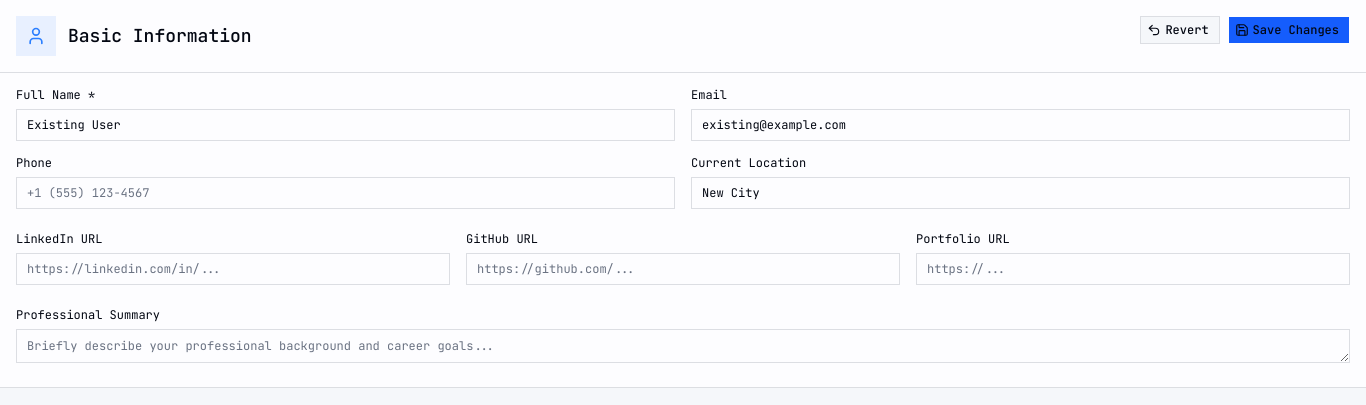
Test: ProfileForm review workflow › reverts manual or extracted edits to the persisted profile
The image size is (1366, 405).
Replace the text in the field labelled "Email" with "manual@example.com": (1020, 125) [691,109,1350,141]
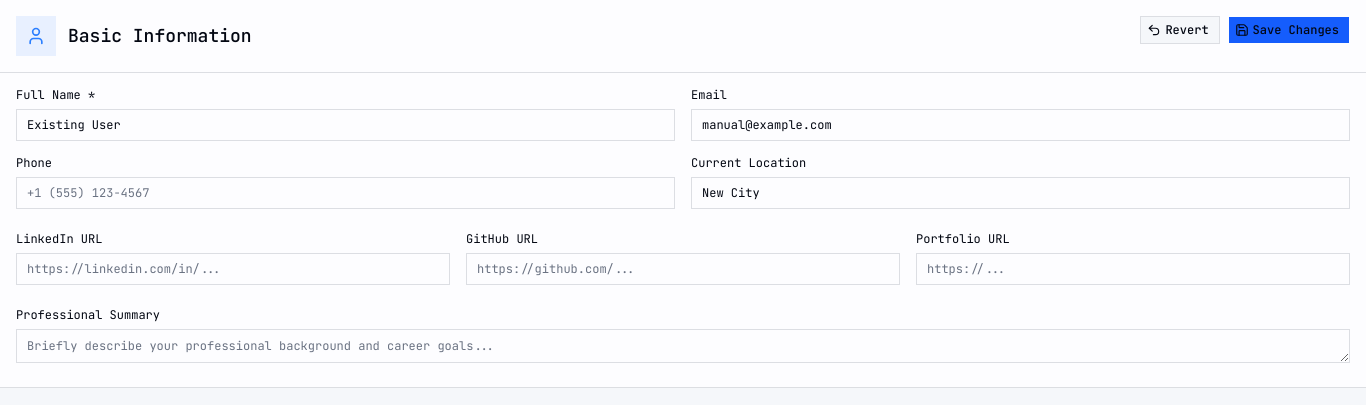
Click the button "Revert": (1180, 30) [1140,16,1220,44]
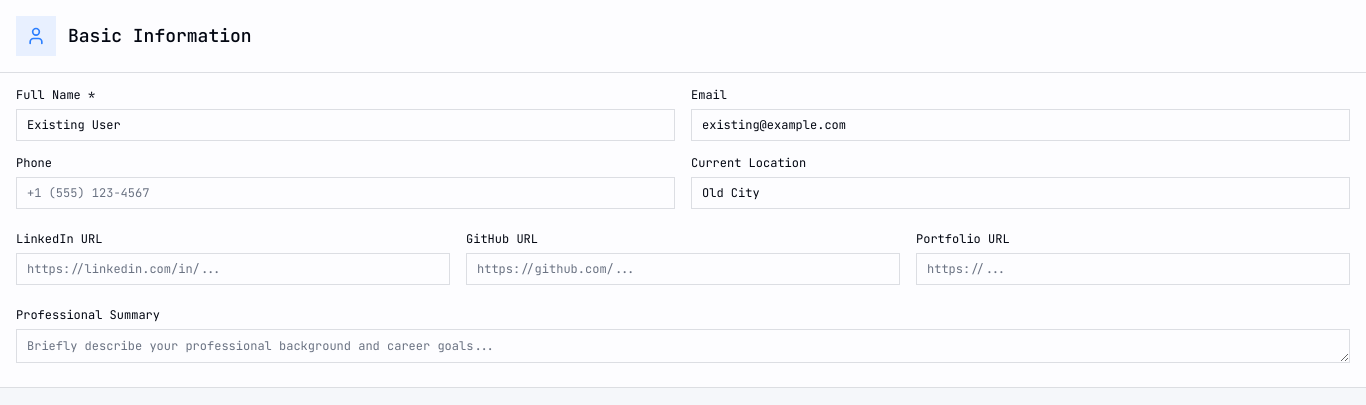
Expected: the field showing "existing@example.com" is shown, [691,109,1350,141]
Expected: the field showing "Old City" is shown, [691,177,1350,209]
Expected: the button "Save Changes" is gone
